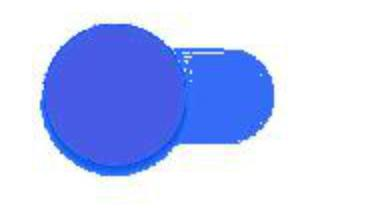Switch: (1, 1, 371, 209)
